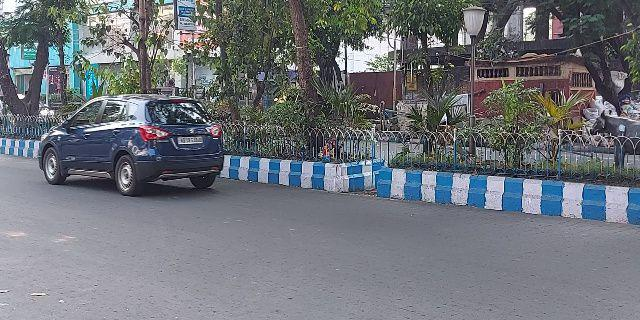Car: (32, 89, 225, 195)
